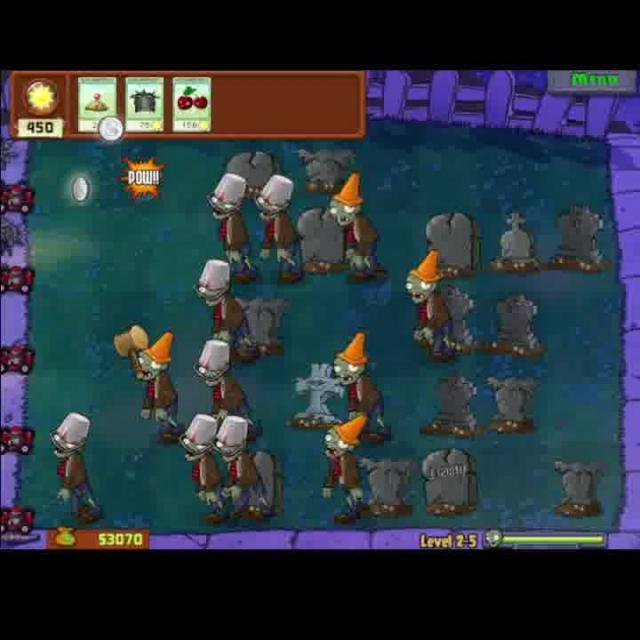coins: (96, 115, 126, 148), (70, 176, 92, 206)
zombies: (109, 320, 184, 442), (44, 408, 104, 526), (330, 330, 388, 440), (193, 252, 250, 362), (200, 167, 252, 285), (324, 166, 378, 276), (401, 244, 450, 358), (256, 165, 301, 287), (188, 337, 244, 426), (324, 414, 368, 522), (176, 410, 217, 520), (222, 404, 260, 518)
